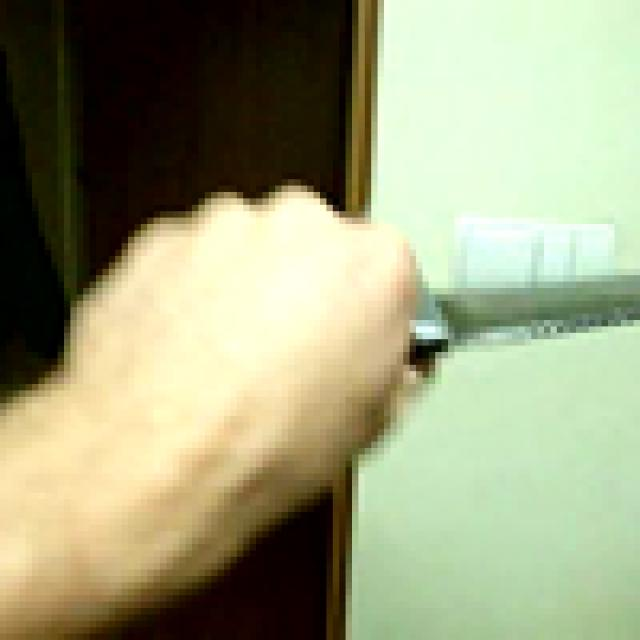Knife: (281, 230, 640, 403)
